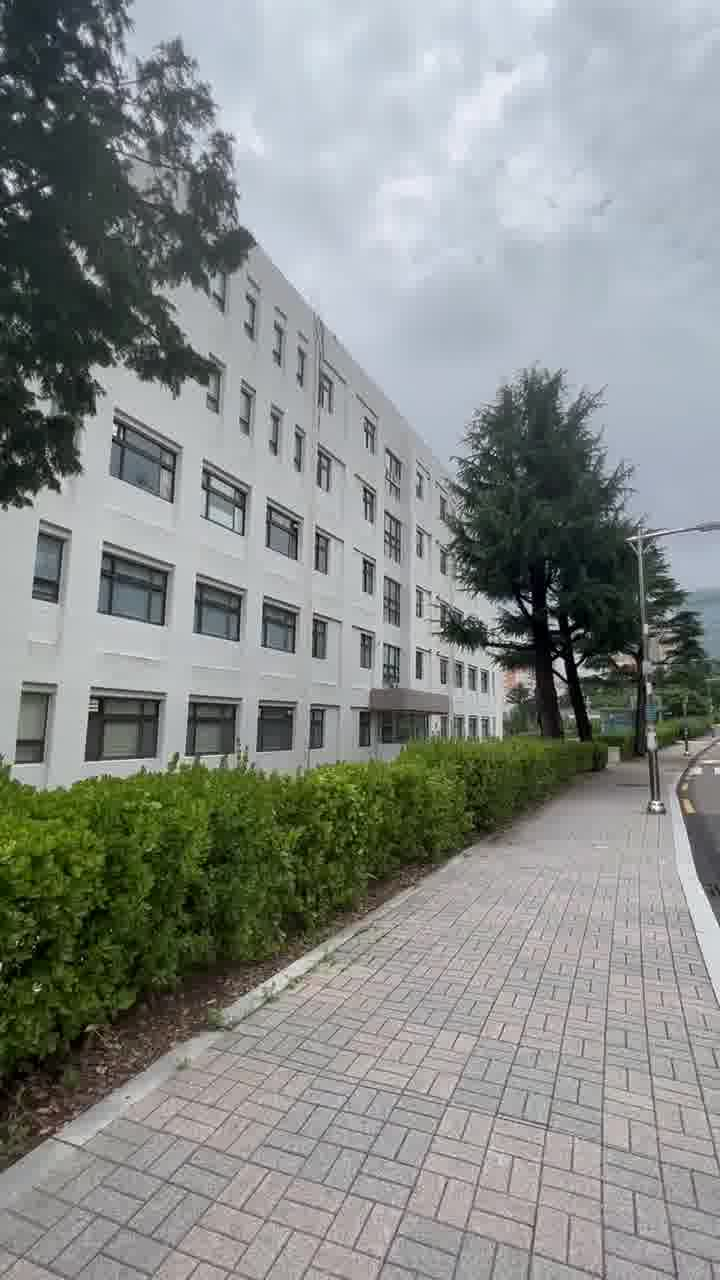low: (156, 282, 438, 742)
